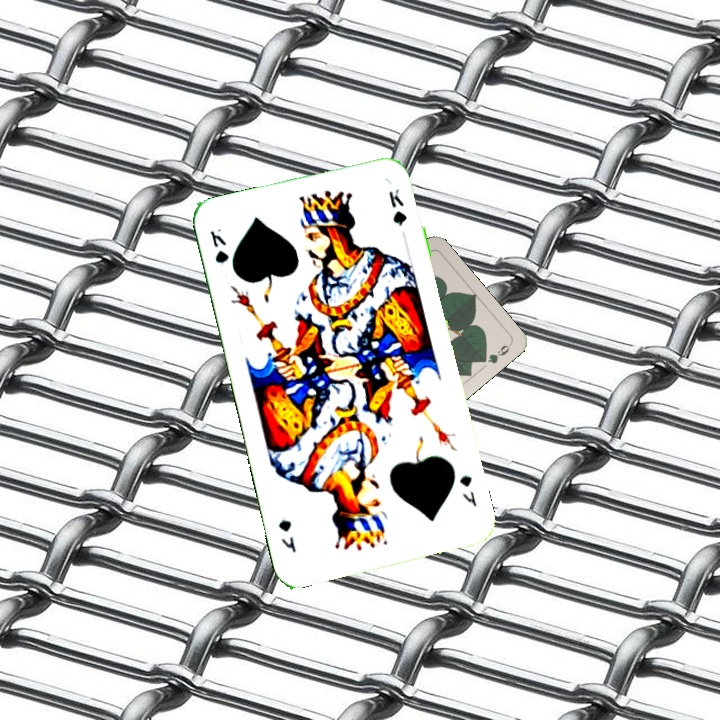GK: (206, 224, 232, 269), (455, 471, 480, 509)
